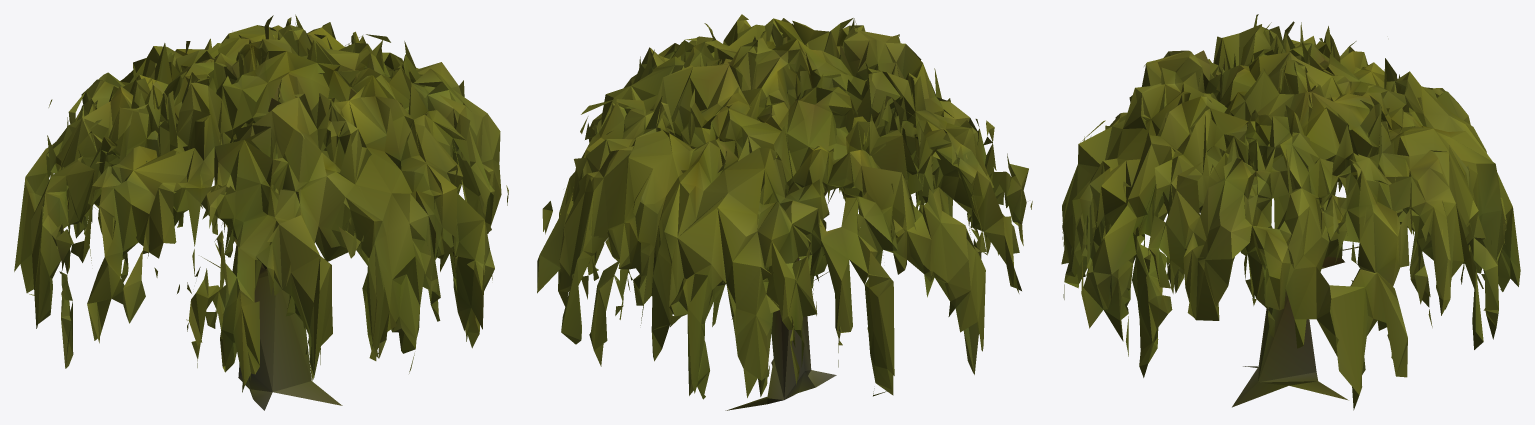
Rendered from lib_willow.vch.glb.
3 renders of one model, left to right at view 1: azimuth 30°, elevation 25°; view 2: azimuth 150°, elevation 25°; view 3: azimuth 270°, elevation 25°, orthographic. The views are drawn at different scales.
Visible parts, largest first — view 1: lib_willow; view 2: lib_willow; view 3: lib_willow.
Boxes of the visible parts, x1,y1,x2,y2 form: lib_willow: (14,14,508,410); lib_willow: (537,14,1032,410); lib_willow: (1061,14,1520,410).
Size of the model in its own units: 1.93 by 1.57 by 1.93.
